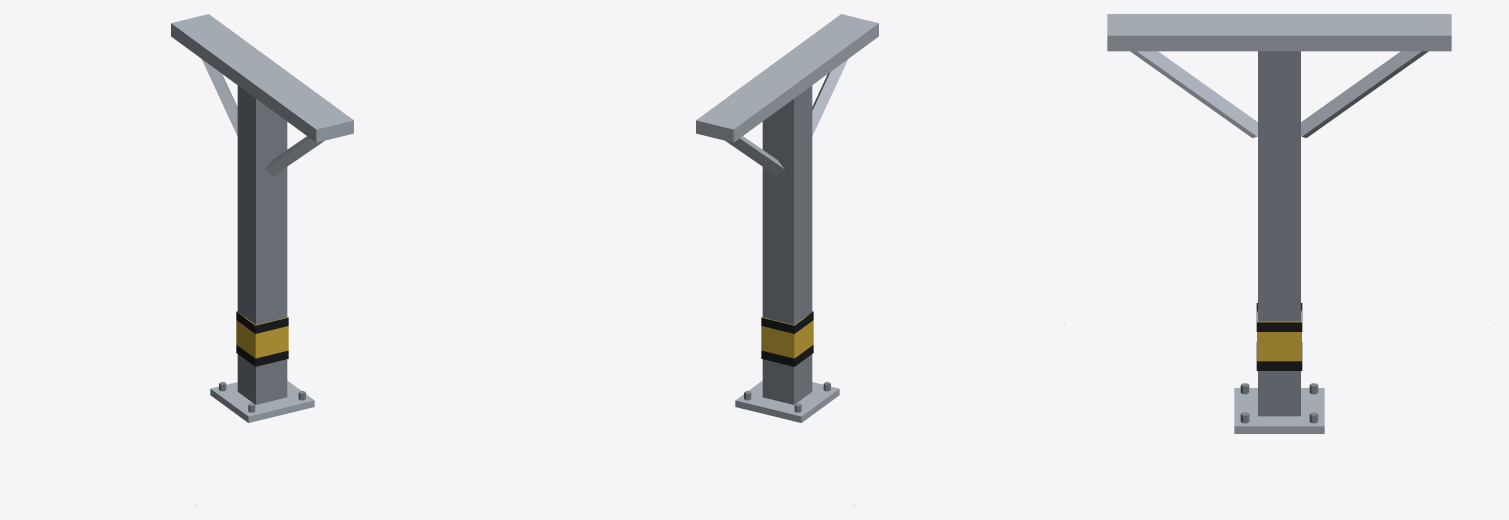
File: pilier_convoyeur_t3.glb
The picture shows the model from 3 angles, left to right: view 1: azimuth 30°, elevation 25°; view 2: azimuth 150°, elevation 25°; view 3: azimuth 270°, elevation 25°; orthographic projection. The views are drawn at different scales.
Visible parts, largest first — view 1: pieces_acier.048, pieces_gris_clair.016, pieces_jaune.018, pieces_noir.024; view 2: pieces_acier.048, pieces_gris_clair.016, pieces_jaune.018, pieces_noir.024; view 3: pieces_gris_clair.016, pieces_acier.048, pieces_jaune.018, pieces_noir.024.
Part boxes in pixels (<box>): pieces_acier.048: <box>219,85,305,412</box>; pieces_gris_clair.016: <box>171,14,353,422</box>; pieces_jaune.018: <box>236,312,288,358</box>; pieces_noir.024: <box>236,311,288,366</box>; pieces_acier.048: <box>744,85,830,412</box>; pieces_gris_clair.016: <box>696,14,878,422</box>; pieces_jaune.018: <box>761,314,813,358</box>; pieces_noir.024: <box>761,311,813,366</box>; pieces_gris_clair.016: <box>1107,14,1451,433</box>; pieces_acier.048: <box>1240,51,1318,423</box>; pieces_jaune.018: <box>1257,310,1301,361</box>; pieces_noir.024: <box>1256,303,1302,370</box>.
Bounding box in the file's own units: 1 × 1 × 1.
